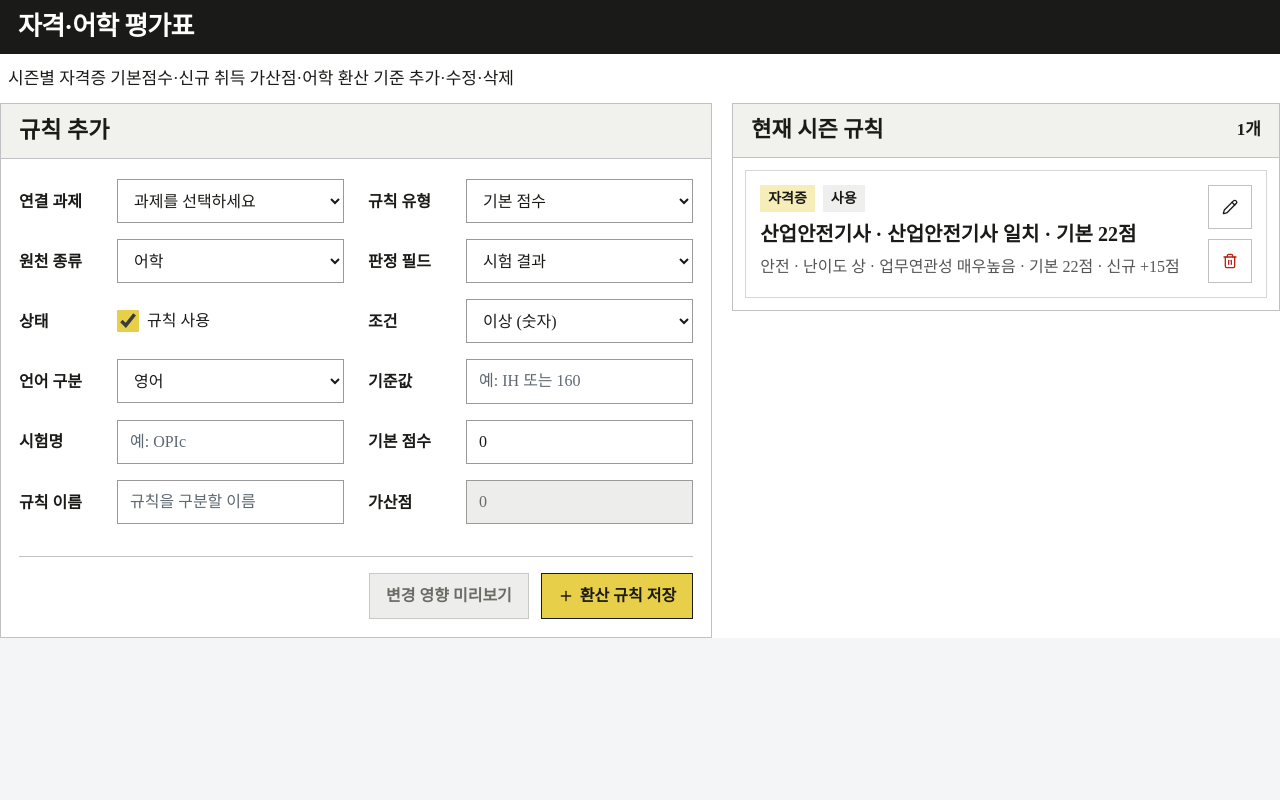
Test: DirectScoreRulePanel › reloads the saved values when the same rule is selected again
Click the button named "산업안전기사 수정".
click(1230, 207)  # box [1208,185,1252,229]
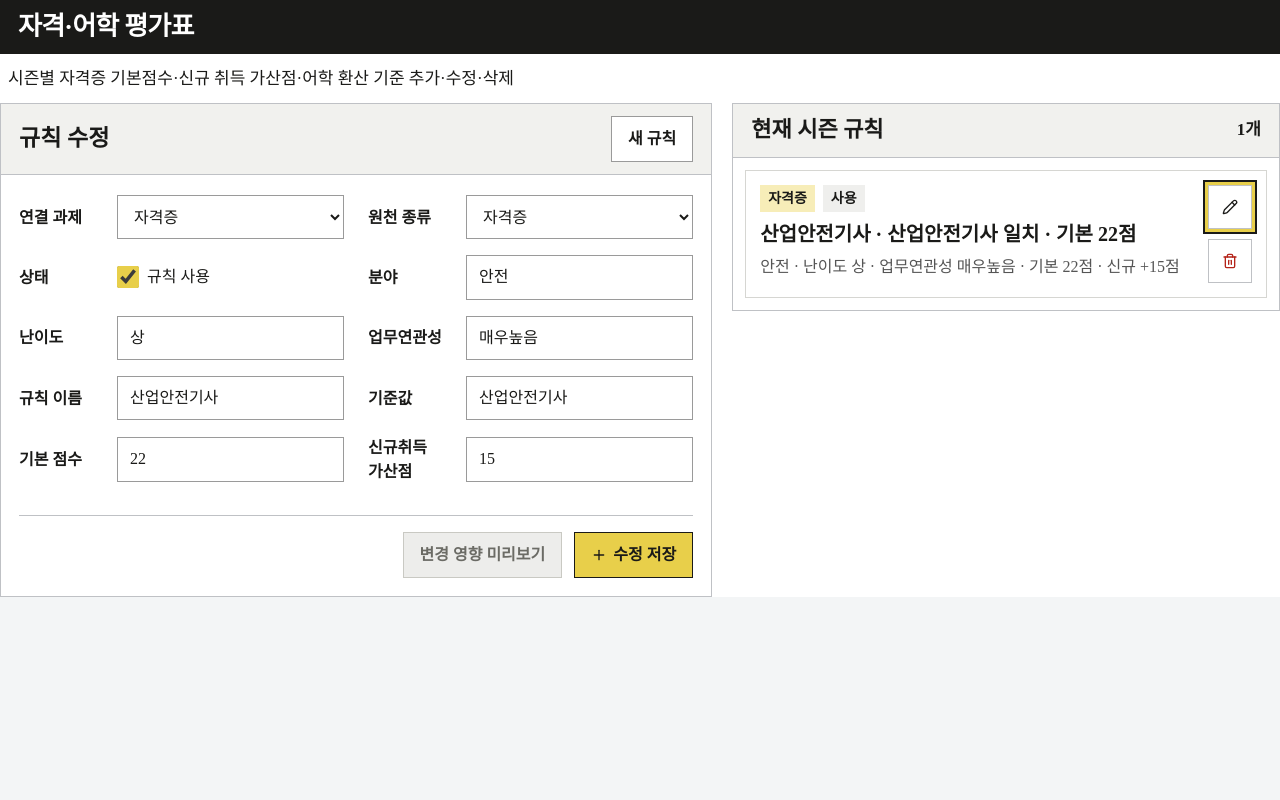
Replace the text in the field labelled "규칙 이름" with "저장하지 않은 이름" at (231, 398), box [117,376,344,420]
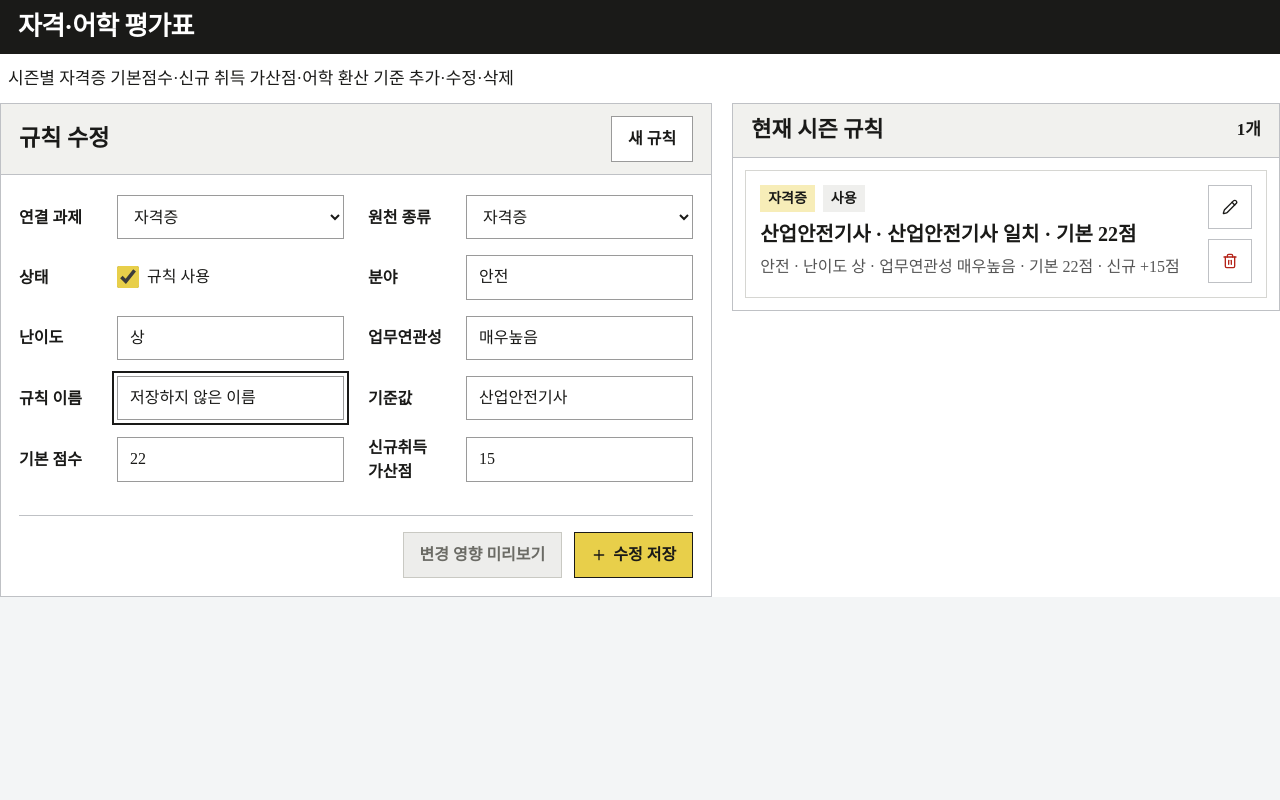
Click the button named "산업안전기사 수정".
click(1230, 207)  # box [1208,185,1252,229]
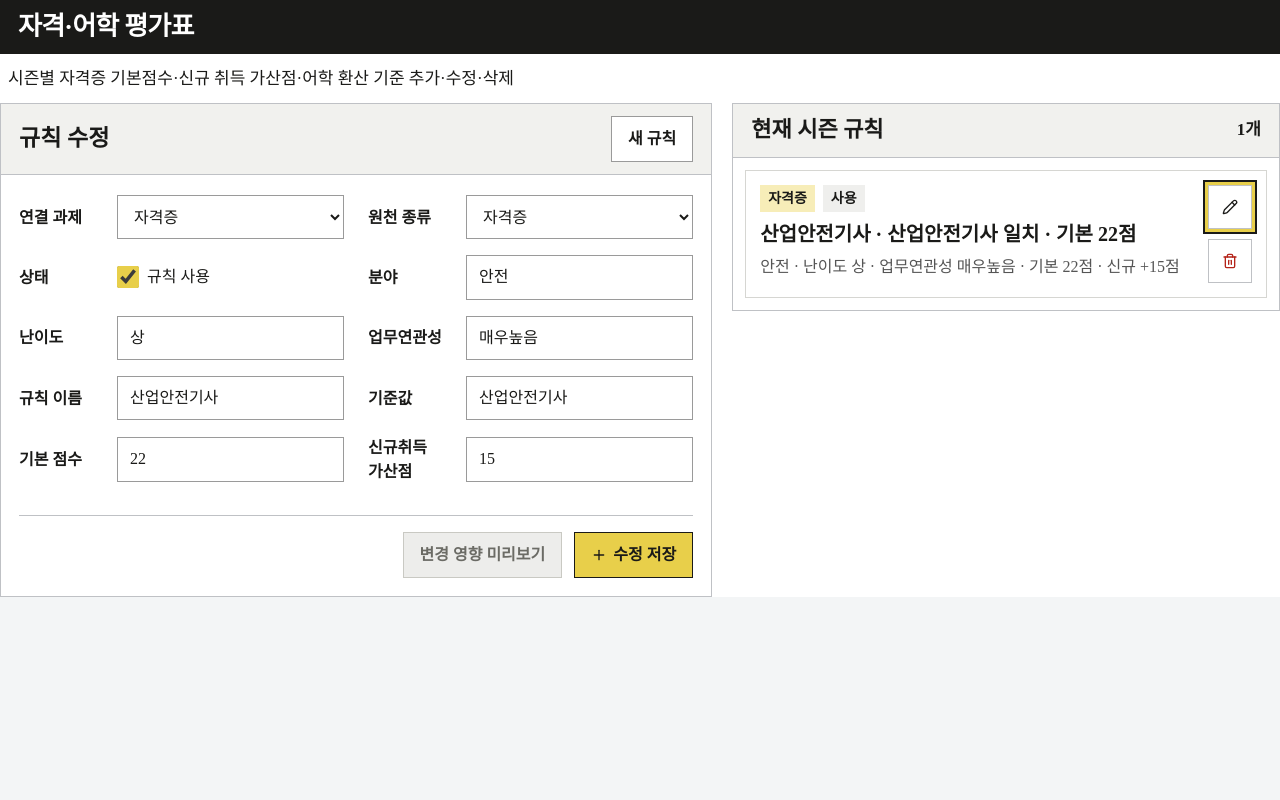
expect the field labelled "규칙 이름" holds "산업안전기사": met, box [117,376,344,420]
